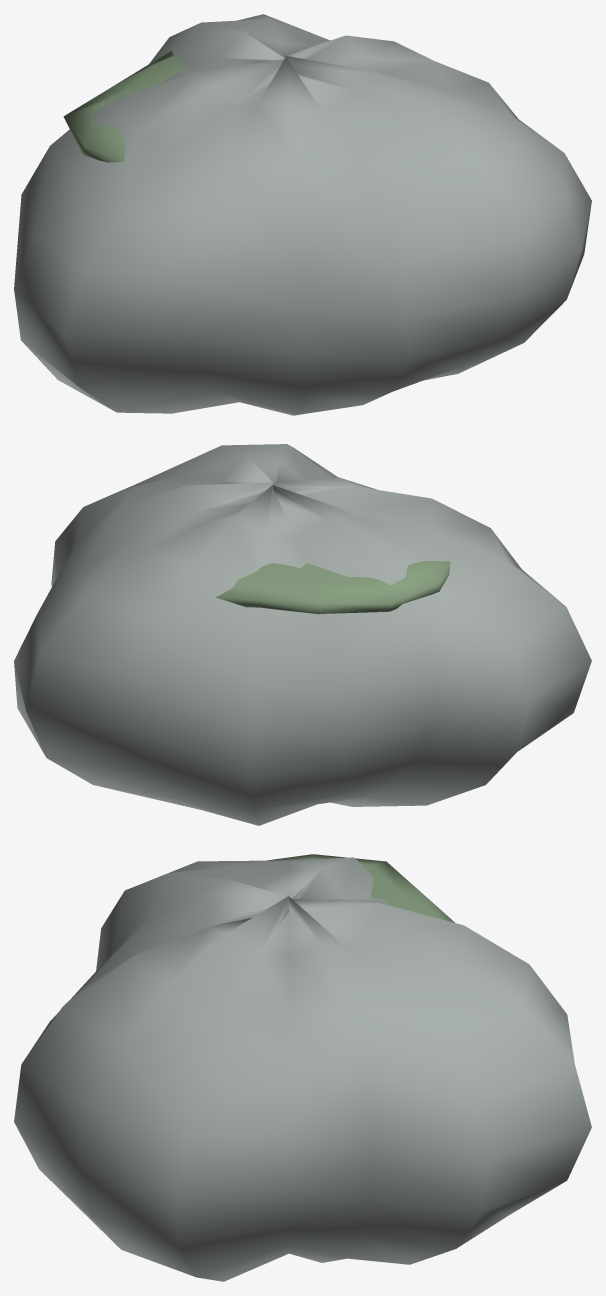
Rendered from SM_Rock_01_UV_0143.fbx.
The picture shows the model from 3 angles, top to bottom: view 1: azimuth 30°, elevation 25°; view 2: azimuth 150°, elevation 25°; view 3: azimuth 270°, elevation 25°; orthographic projection. The views are drawn at different scales.
Parts seen in each view (by area): view 1: SM_Rock_01_UV_0143; view 2: SM_Rock_01_UV_0143; view 3: SM_Rock_01_UV_0143.
Part boxes in pixels (x1,y1,x2,y2): SM_Rock_01_UV_0143: (14, 14, 591, 415); SM_Rock_01_UV_0143: (14, 444, 591, 825); SM_Rock_01_UV_0143: (14, 854, 591, 1281).
Bounding box in the file's own units: 306 × 278 × 183.
